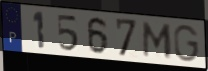1: (32, 11, 47, 51)
5: (56, 13, 80, 52)
6: (86, 15, 111, 55)
7: (115, 17, 140, 59)
G: (172, 24, 201, 64)
M: (142, 21, 173, 60)
